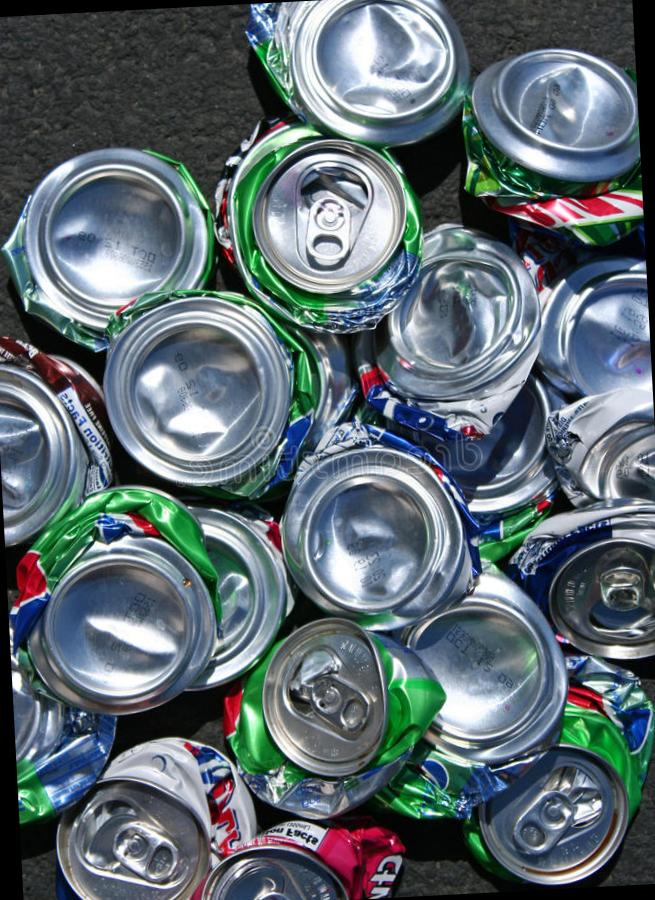metal: (107, 264, 341, 508), (227, 579, 446, 835), (365, 207, 586, 438), (192, 111, 431, 311), (442, 18, 644, 245), (0, 133, 231, 329), (232, 0, 484, 176), (309, 417, 477, 574)
